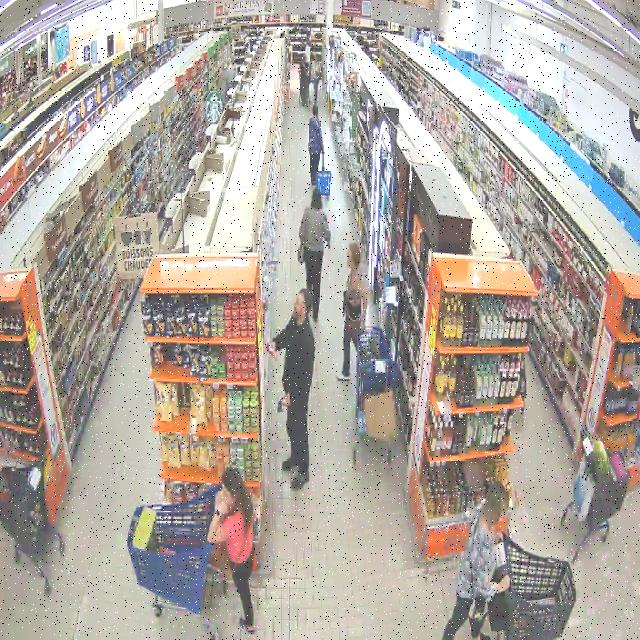article: (266, 342, 277, 360), (277, 397, 284, 412)
bags: (467, 560, 489, 623), (343, 290, 361, 322), (298, 244, 304, 264)
hands: (497, 575, 509, 593), (217, 502, 229, 516), (268, 341, 276, 356), (215, 492, 221, 510), (282, 394, 290, 406), (495, 531, 503, 542), (360, 319, 365, 332), (328, 242, 330, 248)
person: (443, 482, 509, 639), (270, 289, 315, 490), (208, 467, 255, 634), (338, 243, 368, 380), (300, 189, 330, 321), (308, 104, 324, 186)
